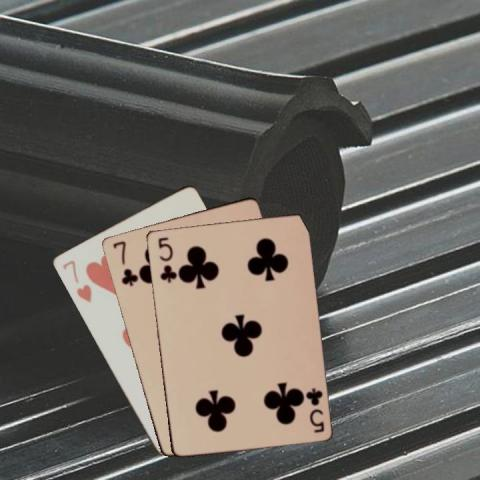5c: (303, 385, 325, 434), (155, 234, 176, 283)
7c: (109, 238, 138, 288)
7h: (58, 257, 92, 304)
